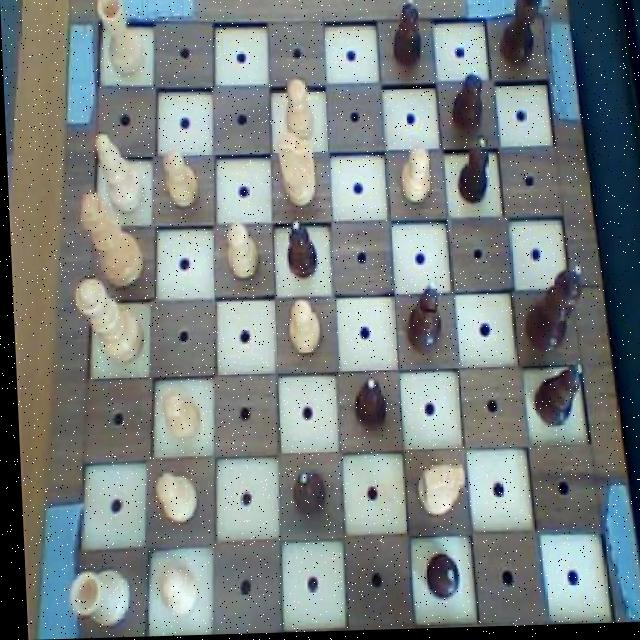bishop: (527, 362, 587, 433), (396, 277, 444, 360)
black-bishop: (516, 265, 587, 358)
black-knight: (385, 0, 426, 75), (444, 66, 486, 138), (453, 138, 493, 208), (278, 215, 318, 283), (344, 376, 389, 436), (414, 552, 458, 604), (283, 468, 324, 522)
black-rook: (91, 128, 147, 220)
white-bishop: (76, 186, 146, 291)
white-king: (269, 128, 319, 212), (407, 457, 466, 527)
white-knight: (144, 468, 196, 531), (147, 560, 196, 621), (278, 73, 318, 147), (158, 148, 202, 214), (280, 296, 323, 361), (395, 145, 435, 212), (155, 388, 199, 448), (222, 220, 259, 286)
white-pawn: (70, 275, 147, 368)
white-queen: (60, 559, 130, 629), (92, 0, 150, 81)
